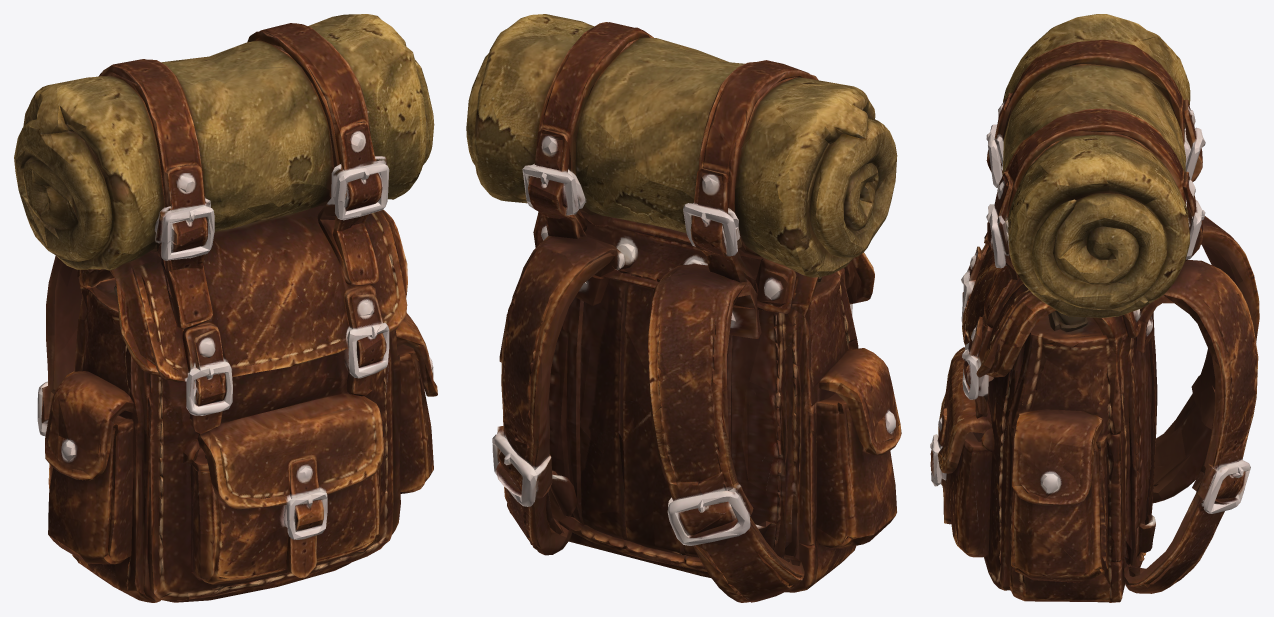
File: backpack.glb
3 renders of one model, left to right at view 1: azimuth 30°, elevation 25°; view 2: azimuth 150°, elevation 25°; view 3: azimuth 270°, elevation 25°, orthographic. The views are drawn at different scales.
Parts seen in each view (by area): view 1: Mesh_0; view 2: Mesh_0; view 3: Mesh_0.
Part boxes in pixels (bbox=[...]): Mesh_0: bbox=[14, 14, 437, 602]; Mesh_0: bbox=[466, 14, 901, 602]; Mesh_0: bbox=[930, 14, 1259, 602].
Size of the model in its own units: 1.5 by 1.9 by 1.21.
1 material, 1 textured.
